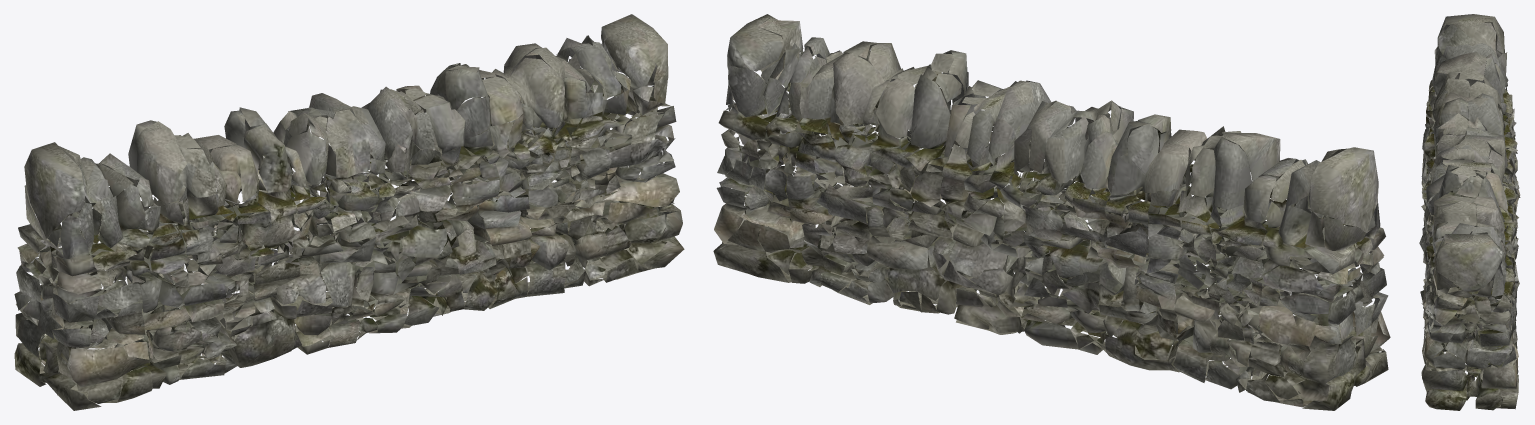
Rendered from fence.glb.
3 renders of one model, left to right at view 1: azimuth 30°, elevation 25°; view 2: azimuth 150°, elevation 25°; view 3: azimuth 270°, elevation 25°, orthographic. The views are drawn at different scales.
Parts seen in each view (by area): view 1: Mesh_0; view 2: Mesh_0; view 3: Mesh_0.
Boxes of the visible parts, x1=… form: Mesh_0: x1=14, y1=14, x2=684, y2=410; Mesh_0: x1=713, y1=14, x2=1390, y2=410; Mesh_0: x1=1419, y1=14, x2=1520, y2=410.
Bounding box in the file's own units: 2.71 × 1 × 0.5128.
Materials: 1 (1 with a texture image).
